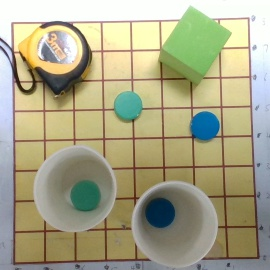blue: (189, 111, 221, 142)
cup_blue: (130, 174, 219, 267)
cup_green: (32, 145, 119, 232)
green: (113, 90, 146, 120)
